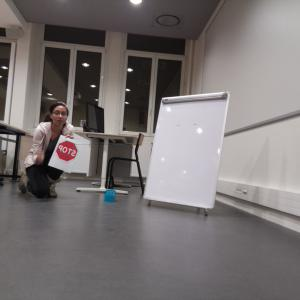stop: (56, 140, 78, 161)
